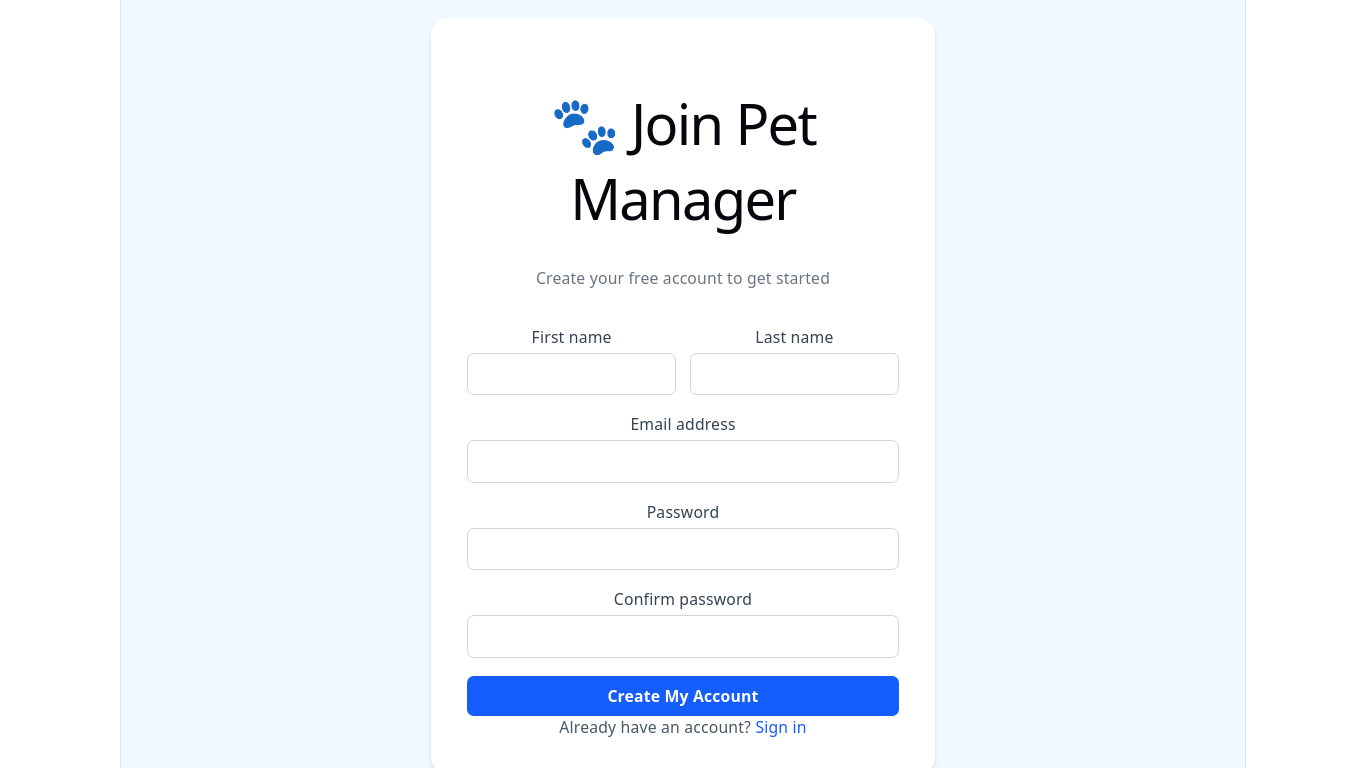
it: RegisterPage › shows error alert on 409 duplicate email
Step 1. Type "John" into the field labelled "First name" → (572, 374), box [467,353,676,395]
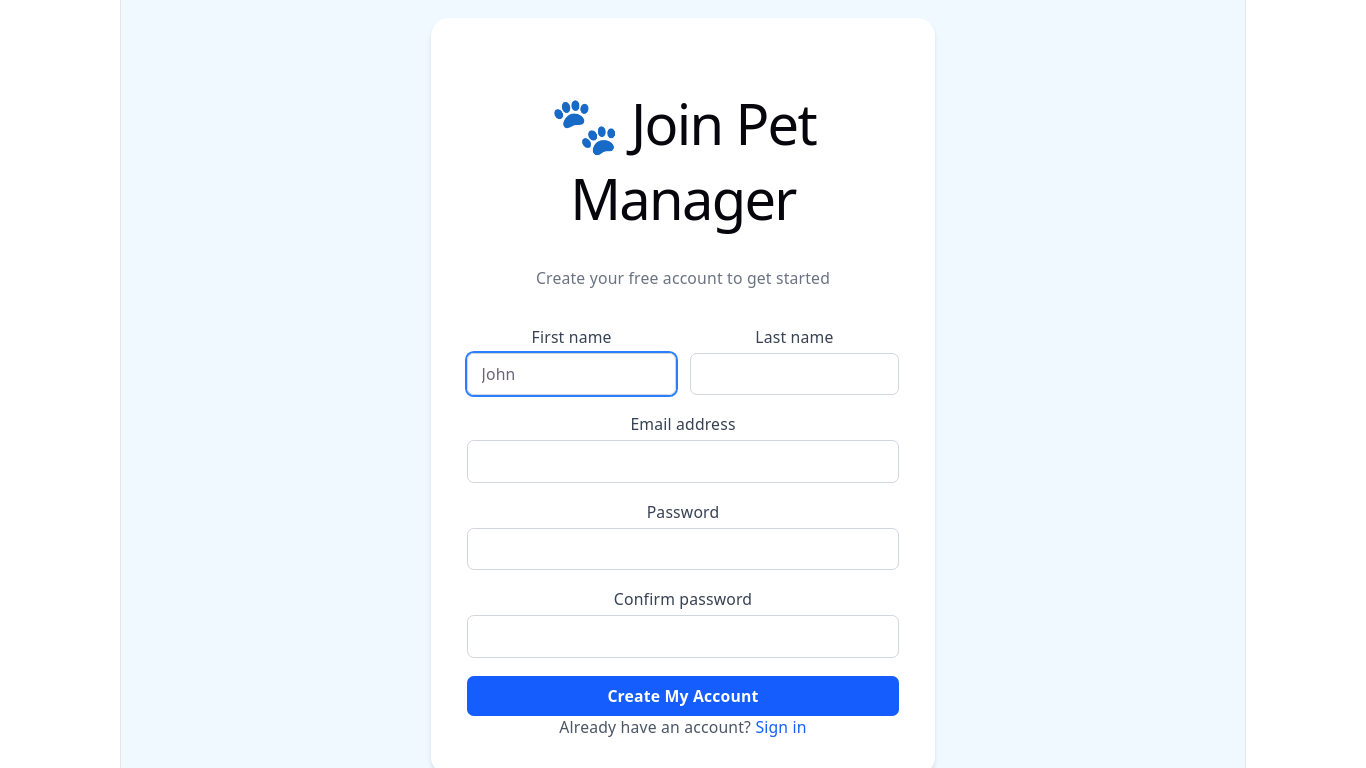
Step 2. Type "Doe" into the field labelled "Last name" → (794, 374), box [690,353,899,395]
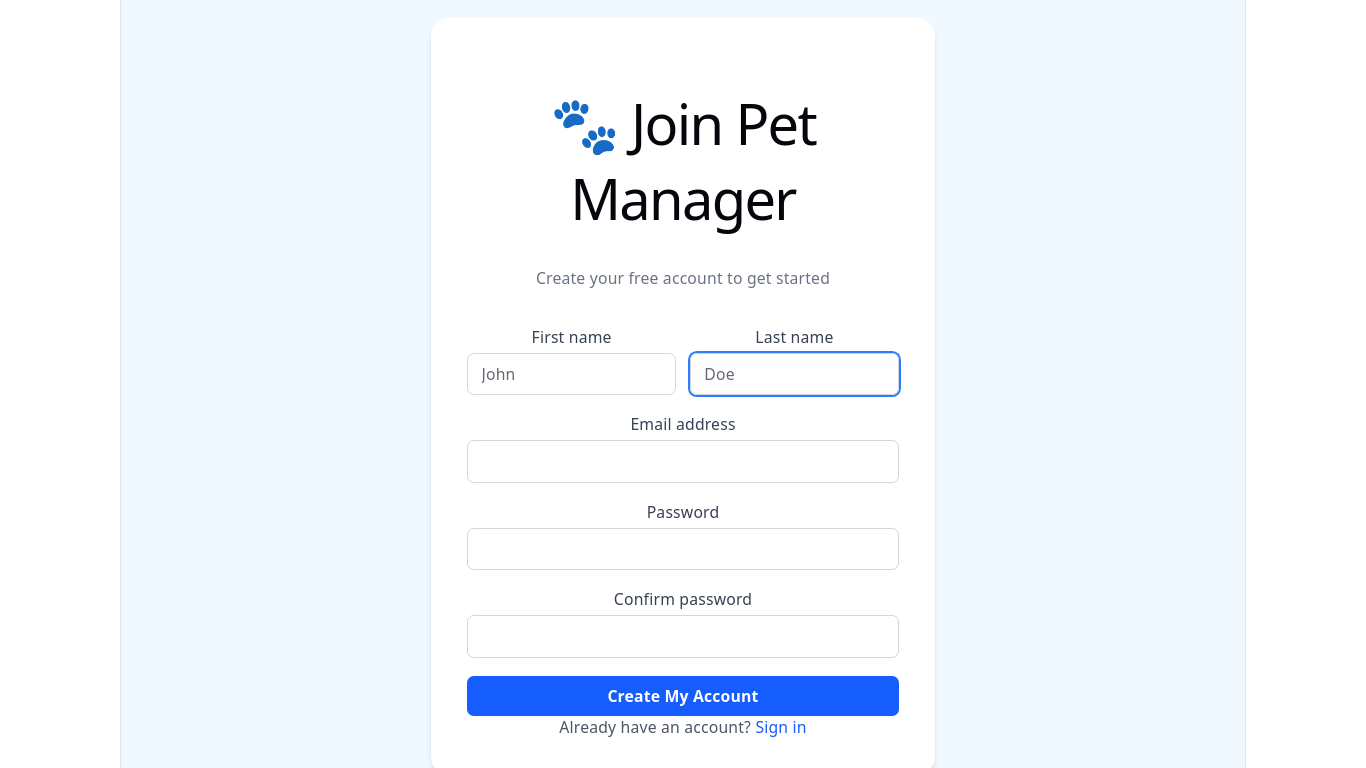
Step 3. Type "taken@test.com" into the field labelled "Email address" → (683, 462), box [467,440,899,483]
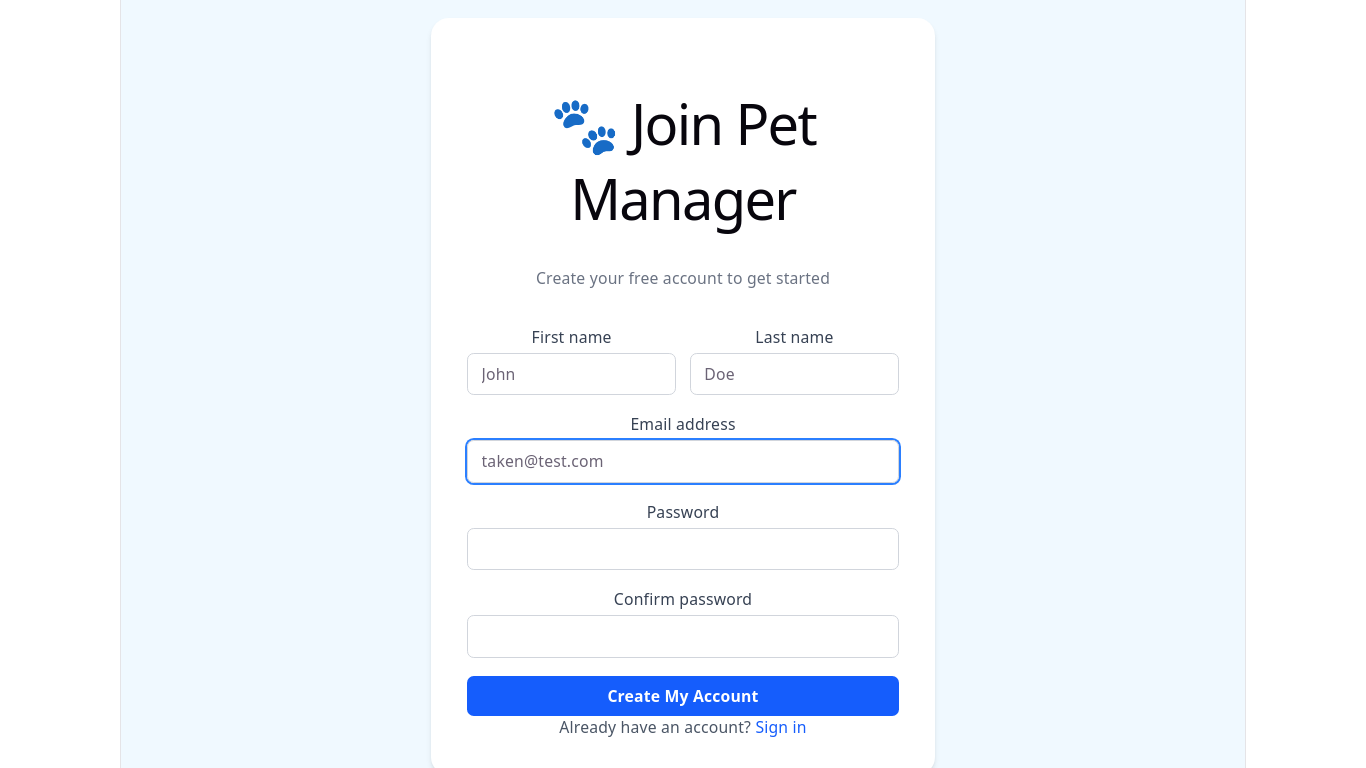
Step 4. Type "Password1" into the password field labelled "Password" → (683, 549), box [467,528,899,570]
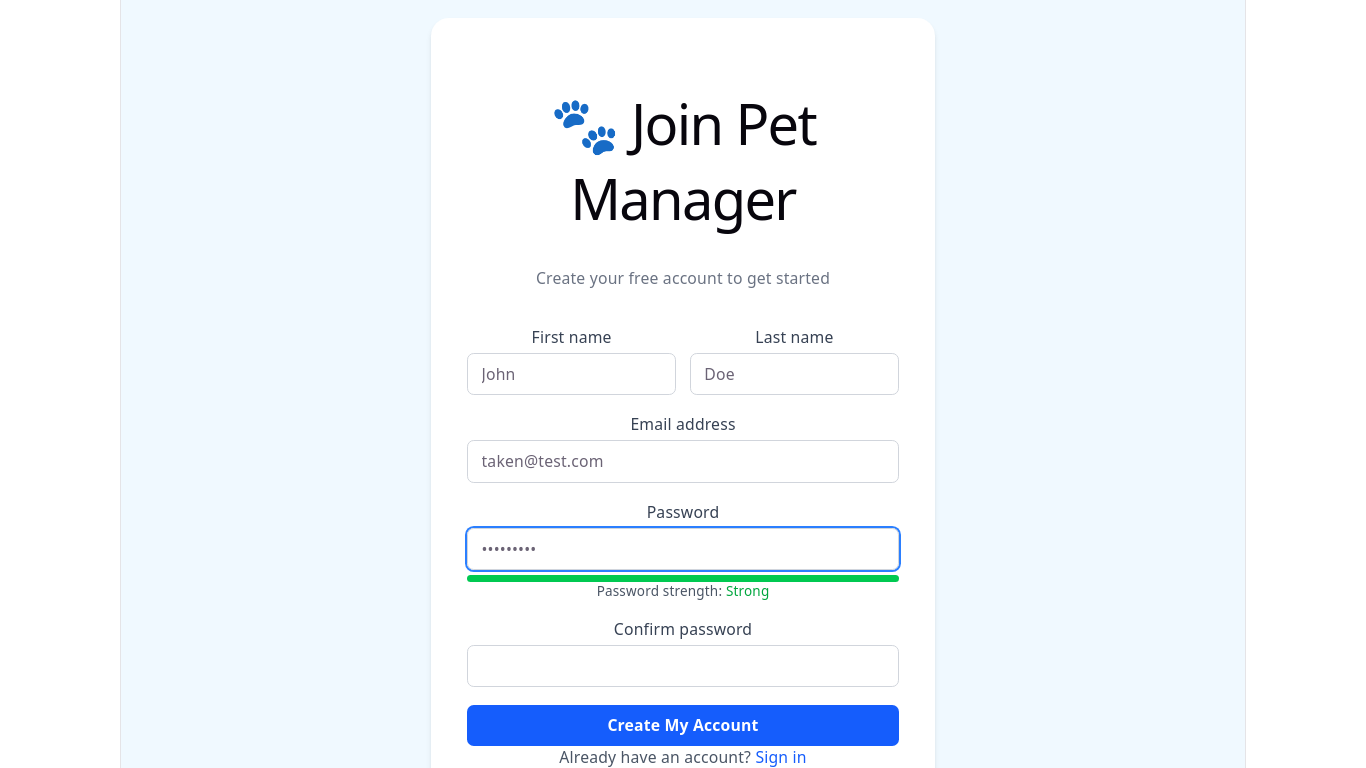
Step 5. Type "Password1" into the password field labelled "Confirm password" → (683, 666), box [467,644,899,687]
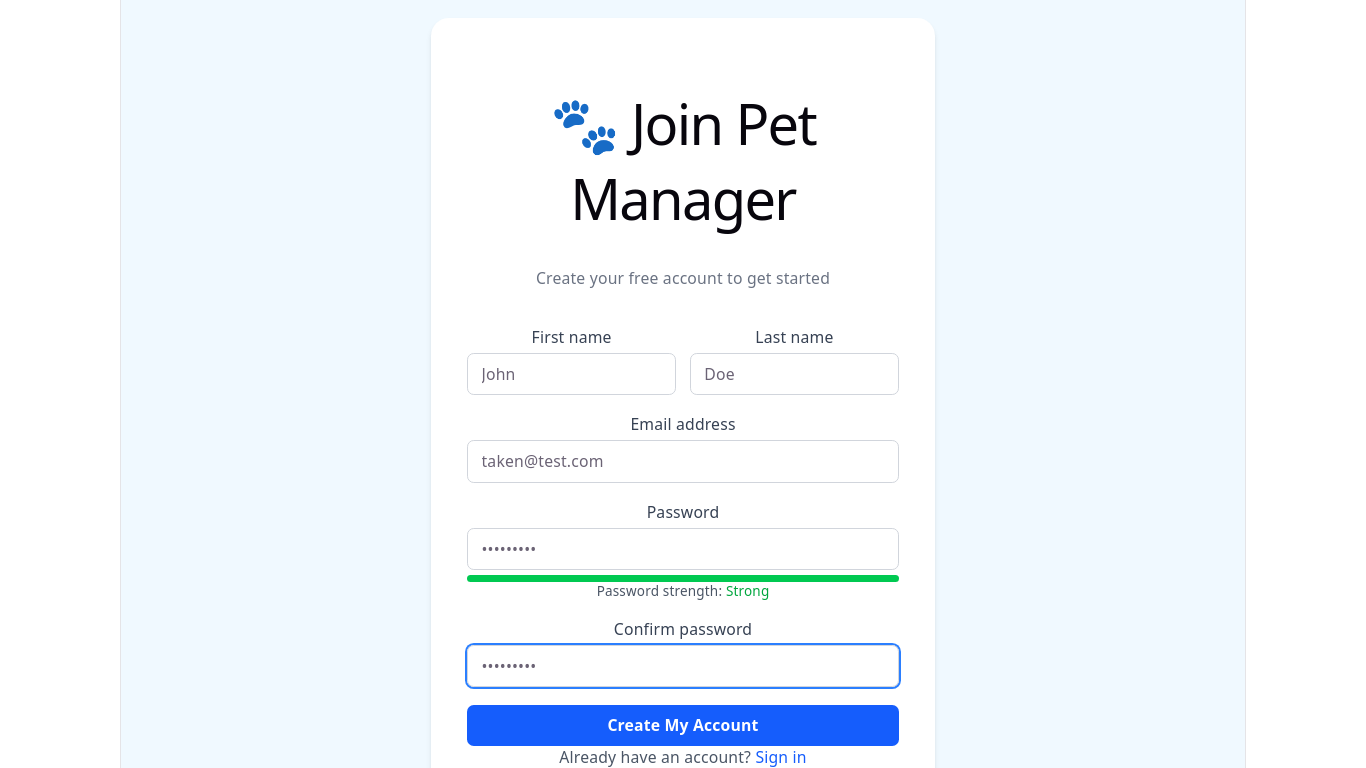
Step 6. Click the button "Create My Account" → (683, 725), box [467,705,899,746]
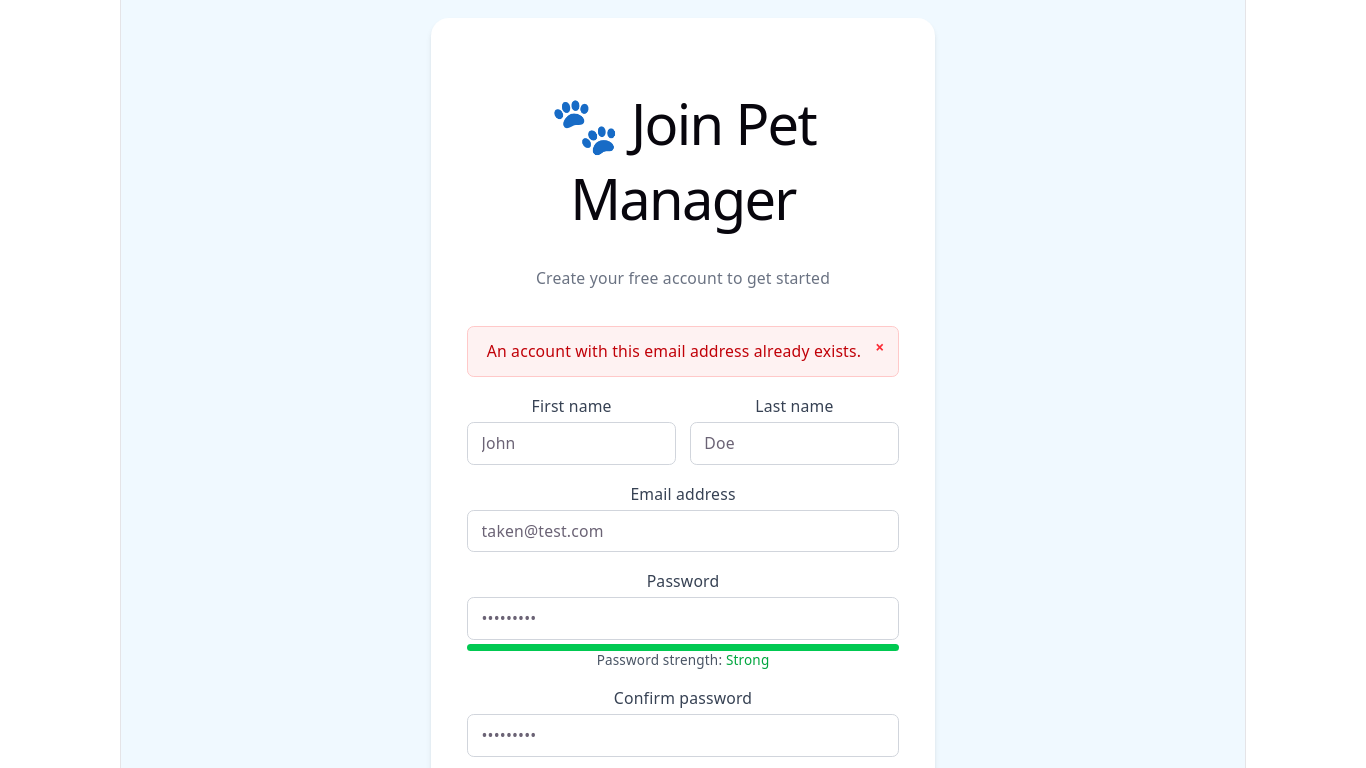
Expected: the message shows "already exists", [487,340,861,362]
